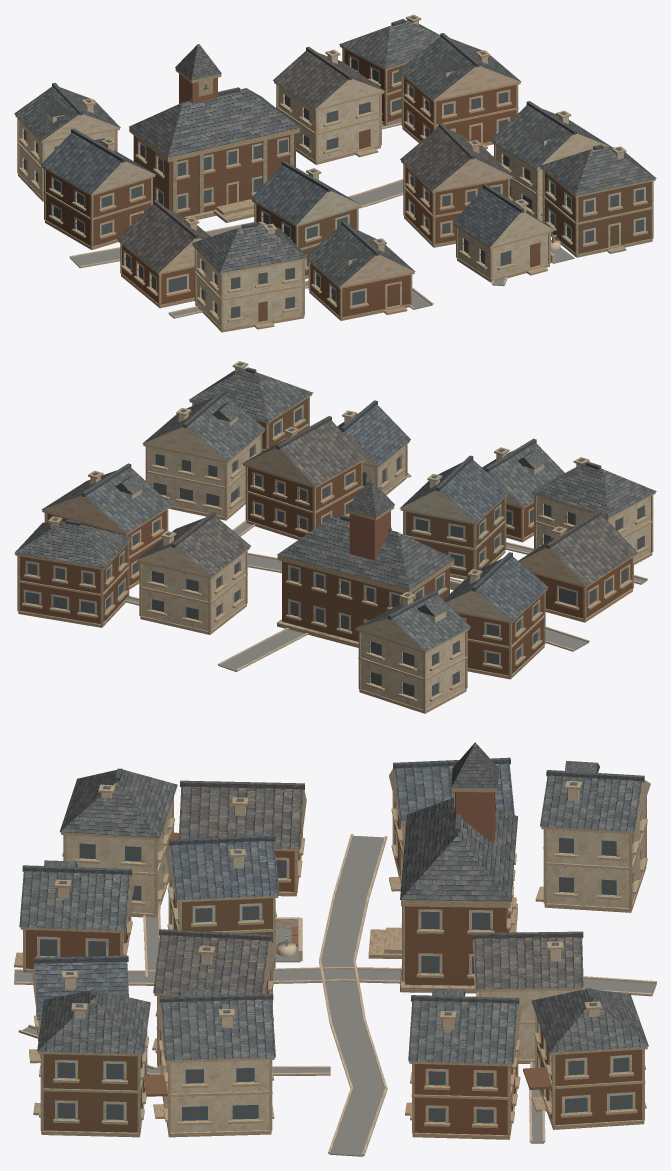
Rendered from city_nordic_1.gltf.
The picture shows the model from 3 angles, top to bottom: view 1: azimuth 30°, elevation 25°; view 2: azimuth 150°, elevation 25°; view 3: azimuth 270°, elevation 25°; orthographic projection. The views are drawn at different scales.
Parts seen in each view (by area): view 1: city_nordic_1; view 2: city_nordic_1; view 3: city_nordic_1.
Part boxes in pixels (left/top/right/bottom): city_nordic_1: left=14, top=14, right=656, bottom=332; city_nordic_1: left=14, top=361, right=656, bottom=713; city_nordic_1: left=14, top=742, right=656, bottom=1156.
Bounding box in the file's own units: 1 × 0.2934 × 0.8483.
Materials: 6 (1 with a texture image).
